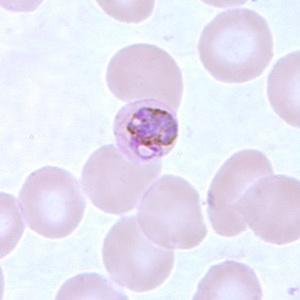Infected: (113, 98, 179, 162)
Uninfected: (206, 148, 274, 236), (197, 7, 273, 83), (106, 41, 182, 115), (82, 141, 159, 214), (103, 215, 176, 291), (137, 175, 206, 248), (231, 174, 300, 246), (19, 167, 85, 238)
